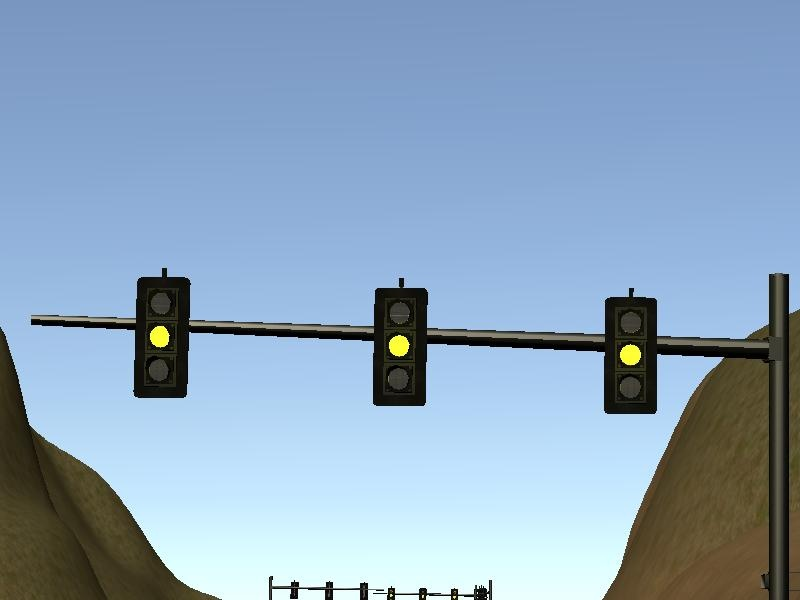YELLOW: (599, 288, 660, 418), (368, 274, 429, 404), (131, 267, 192, 397)
